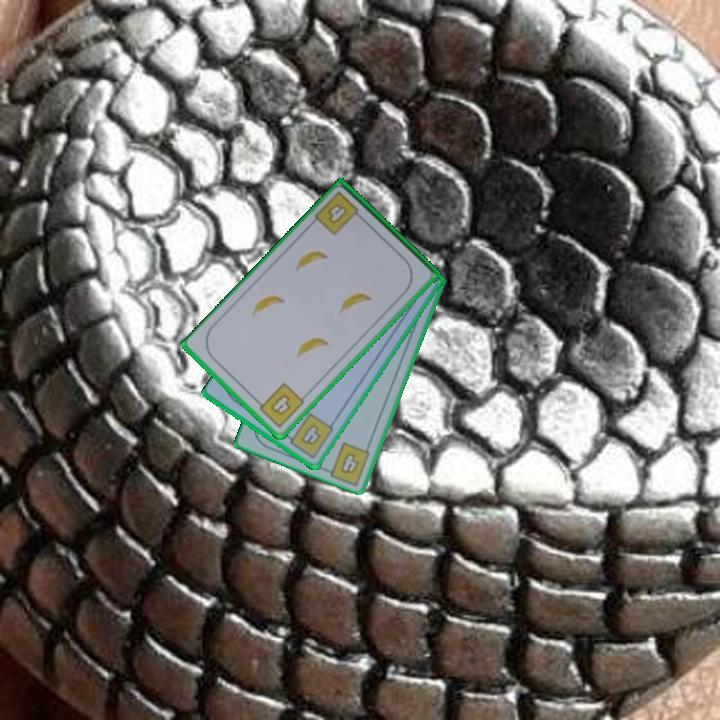4b: (281, 409, 337, 461), (252, 379, 308, 431), (311, 188, 367, 238), (337, 449, 362, 477)
